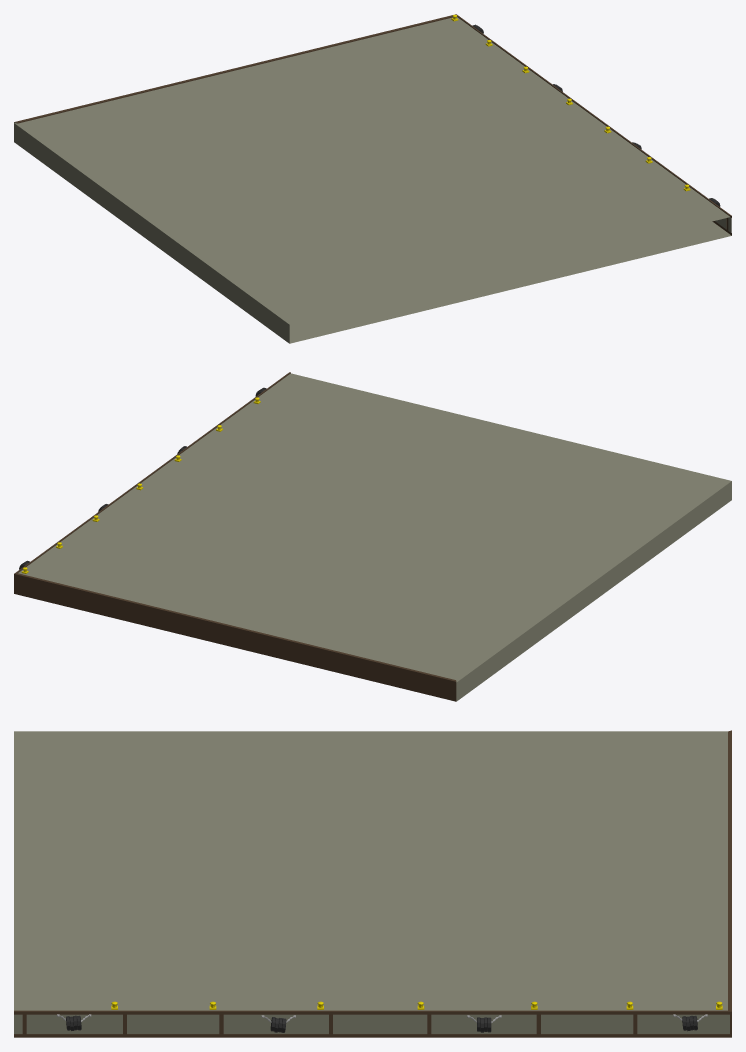
File: dock.fbx
3 views of the same model, one above another, from view 1: azimuth 30°, elevation 25°; view 2: azimuth 150°, elevation 25°; view 3: azimuth 270°, elevation 25° (orthographic). The views are drawn at different scales.
Visible parts, largest first — view 1: pCube1; view 2: pCube1; view 3: pCube1.
Boxes of the visible parts, x1,y1,x2,y2 form: pCube1: (14, 14, 731, 343); pCube1: (14, 372, 731, 701); pCube1: (14, 730, 731, 1037).
Bounding box in the file's own units: 206 × 10.48 × 218.
